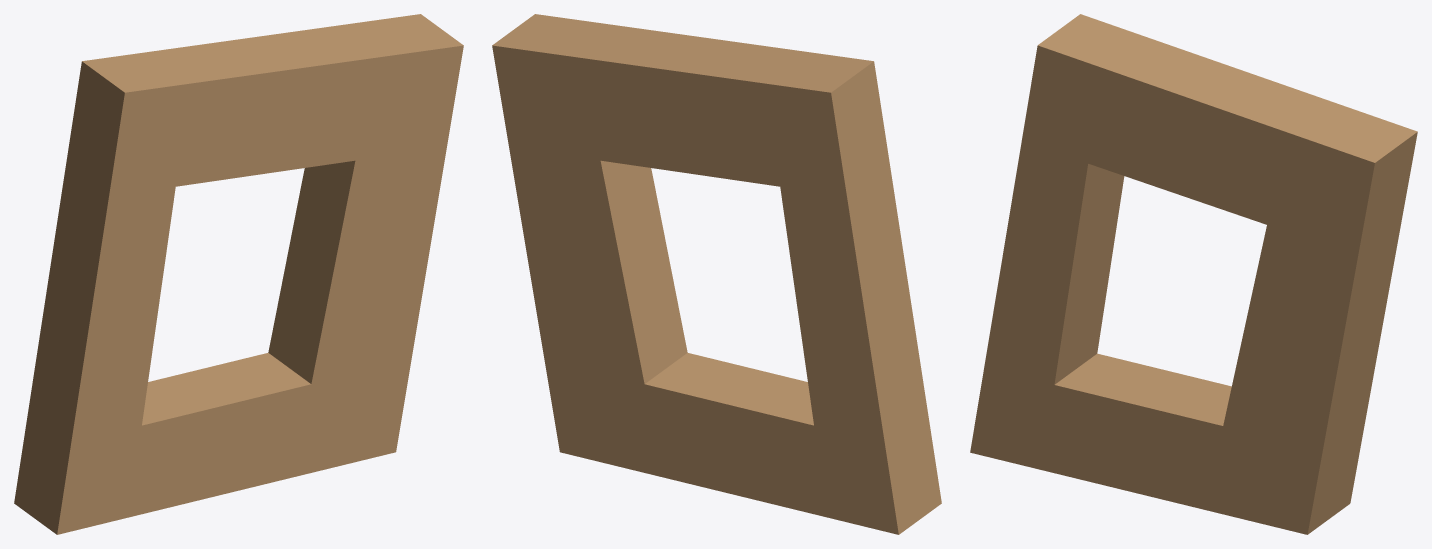
Rendered from prop-tenon-saw-handle-tn1.fbx.
3 renders of one model, left to right at view 1: azimuth 30°, elevation 25°; view 2: azimuth 150°, elevation 25°; view 3: azimuth 330°, elevation 25°, orthographic.
Visible parts, largest first — view 1: prop-tenon-saw-handle-tn1; view 2: prop-tenon-saw-handle-tn1; view 3: prop-tenon-saw-handle-tn1.
Boxes of the visible parts, x1,y1,x2,y2 form: prop-tenon-saw-handle-tn1: (14,14,463,534); prop-tenon-saw-handle-tn1: (492,14,941,534); prop-tenon-saw-handle-tn1: (970,14,1417,534).
Bounding box in the file's own units: 0.12 × 0.12 × 0.022.
